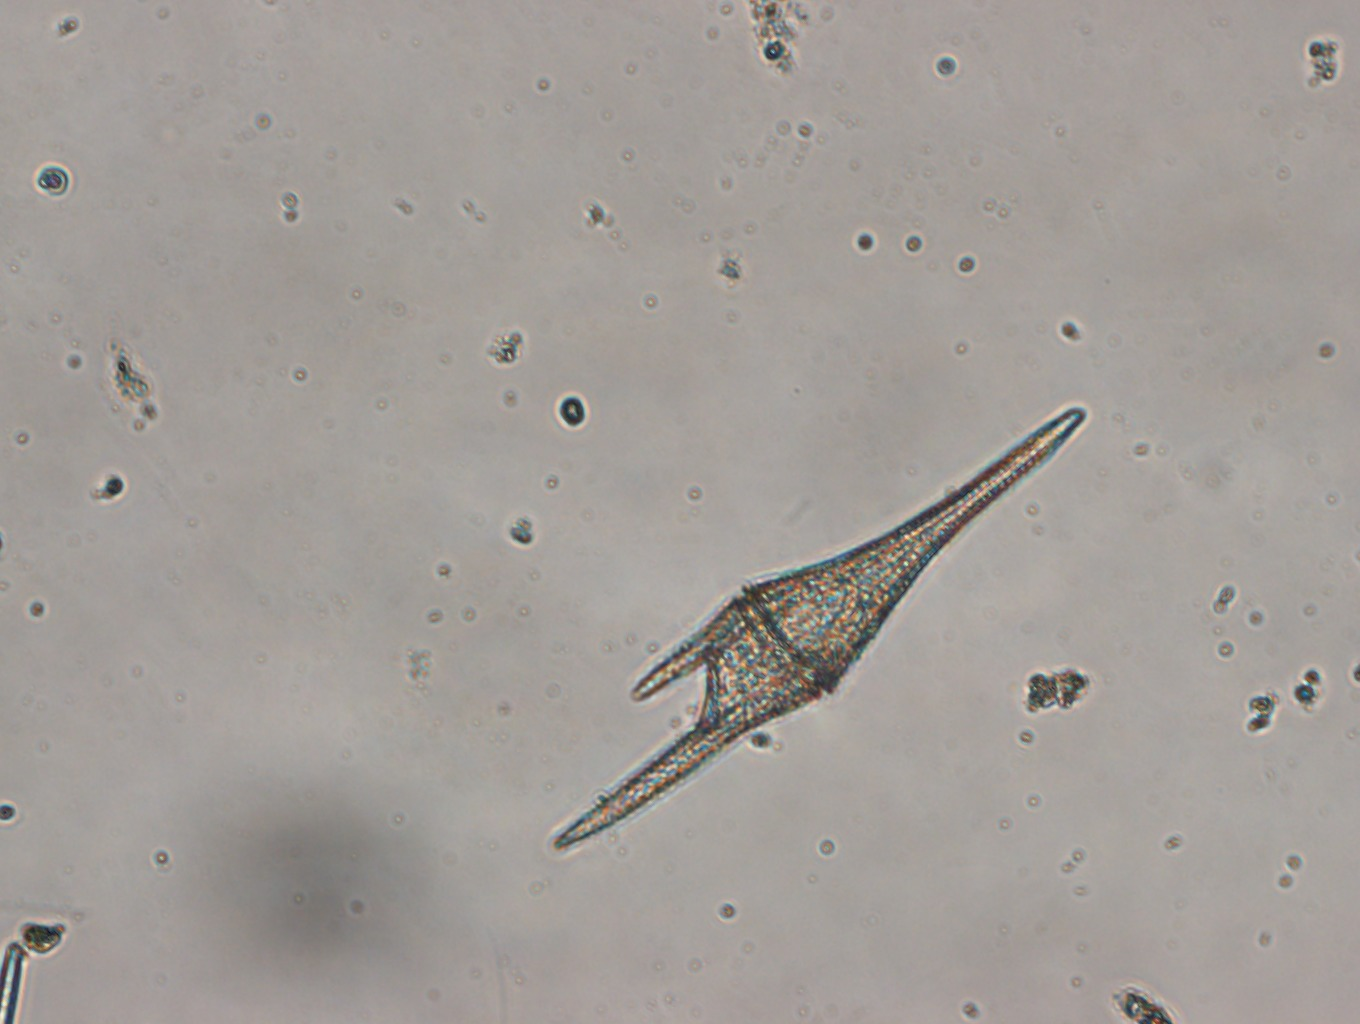ceratium furca: (544, 402, 1087, 858)
